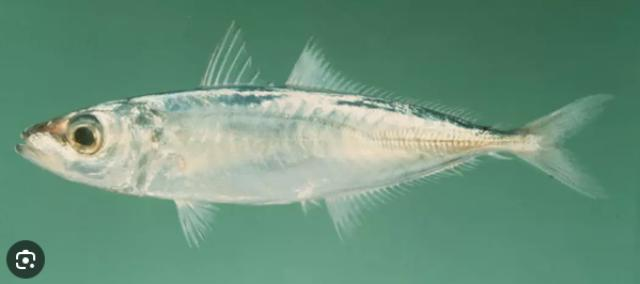Mulut: (12, 116, 46, 168)
Sirip Anal: (326, 149, 496, 244)
Sirip Dada: (157, 128, 279, 183)
Sirip Ekor: (520, 74, 624, 212)
Sirip Perut: (173, 193, 223, 259)
Sirip Punggung: (196, 13, 428, 113)
